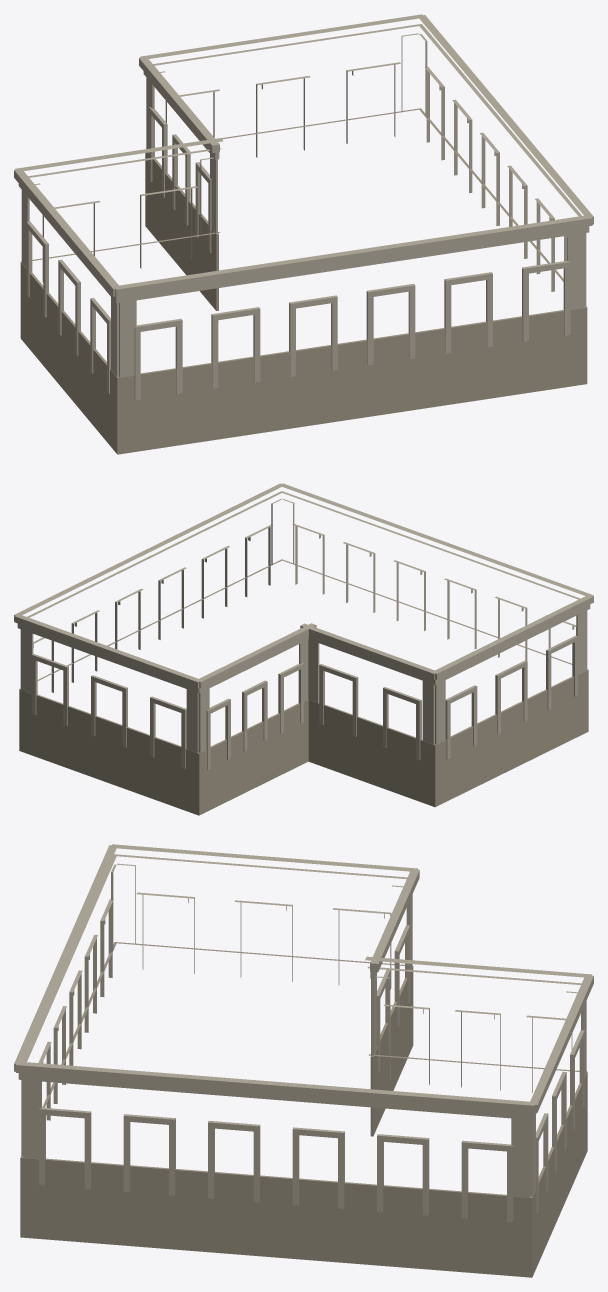
The picture shows the model from 3 angles, top to bottom: view 1: azimuth 30°, elevation 25°; view 2: azimuth 150°, elevation 25°; view 3: azimuth 270°, elevation 25°; orthographic projection. The views are drawn at different scales.
Parts seen in each view (by area): view 1: detail; view 2: detail; view 3: detail.
Boxes of the visible parts, x1,y1,x2,y2 form: detail: [14, 14, 593, 454]; detail: [14, 483, 593, 815]; detail: [14, 844, 593, 1277].
Bounding box in the file's own units: 19.93 × 6.2 × 18.67.
